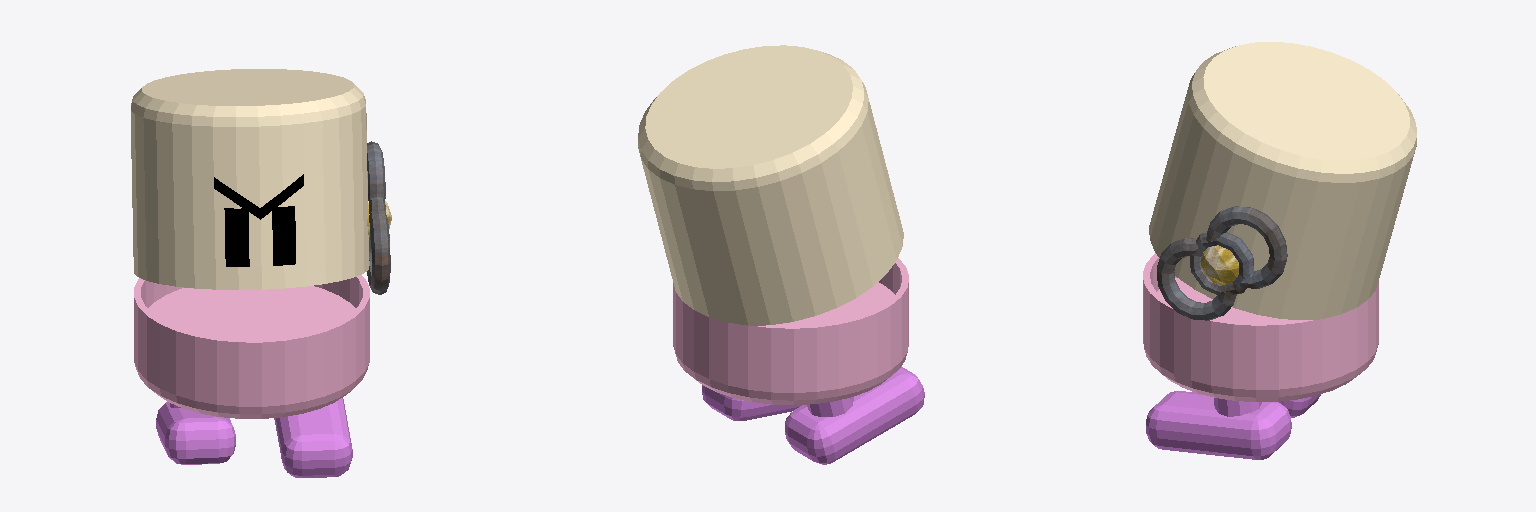
3 views of the same model, side by side, from view 1: azimuth 30°, elevation 25°; view 2: azimuth 150°, elevation 25°; view 3: azimuth 270°, elevation 25° (orthographic).
Parts seen in each view (by area): view 1: Head, Jaw, LeftLeg, RightLeg, WindupKey; view 2: Head, Jaw, RightLeg, LeftLeg; view 3: Head, Jaw, WindupKey, LeftLeg.
Boxes of the visible parts, x1=… form: Head: x1=131, y1=69, x2=369, y2=289; Jaw: x1=134, y1=275, x2=369, y2=418; LeftLeg: x1=274, y1=398, x2=352, y2=477; RightLeg: x1=156, y1=402, x2=235, y2=464; WindupKey: x1=367, y1=141, x2=391, y2=294; Head: x1=638, y1=45, x2=903, y2=325; Jaw: x1=673, y1=258, x2=908, y2=404; RightLeg: x1=785, y1=366, x2=924, y2=464; LeftLeg: x1=702, y1=385, x2=801, y2=420; Head: x1=1149, y1=42, x2=1416, y2=319; Jaw: x1=1143, y1=253, x2=1378, y2=401; WindupKey: x1=1157, y1=206, x2=1287, y2=320; LeftLeg: x1=1146, y1=391, x2=1291, y2=459.
Size of the model in its own units: 118 by 170 by 116.
6 materials, 2 textured.